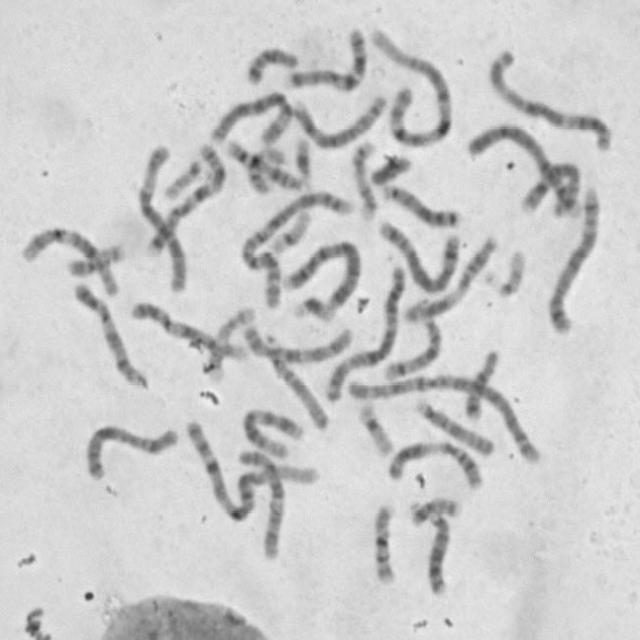A1: (182, 416, 322, 523), (364, 22, 456, 149)
A2: (345, 370, 547, 465), (237, 182, 356, 312)
A3: (482, 43, 616, 153), (321, 260, 409, 402)
B4: (460, 118, 582, 221), (278, 236, 362, 314)
B5: (543, 182, 602, 337), (376, 214, 462, 296)
C10: (234, 447, 286, 562), (238, 323, 356, 364)
C11: (402, 232, 499, 325), (382, 437, 483, 491)
C12: (17, 220, 116, 296), (239, 406, 305, 458)
C6: (134, 140, 188, 294), (206, 88, 297, 148)
C7: (142, 139, 230, 258), (284, 22, 368, 94)
C8: (290, 91, 388, 150), (518, 158, 583, 216)
C9: (70, 278, 150, 390), (128, 299, 250, 363)
D13: (378, 180, 462, 230), (422, 508, 453, 598)
D14: (222, 134, 312, 192), (380, 314, 444, 381)
D15: (256, 327, 331, 431), (413, 396, 495, 458)
E16: (370, 500, 398, 586), (245, 144, 284, 200)
E17: (201, 304, 256, 381), (348, 137, 379, 221)
E18: (463, 347, 501, 422), (242, 42, 300, 86)
F19: (354, 396, 395, 457), (267, 205, 313, 257)
F20: (62, 240, 128, 279), (405, 492, 462, 528)
G21: (291, 292, 335, 323), (290, 134, 313, 182)
G22: (489, 245, 527, 300), (160, 156, 204, 202)
X: (82, 422, 180, 484)
Y: (367, 152, 413, 187)
